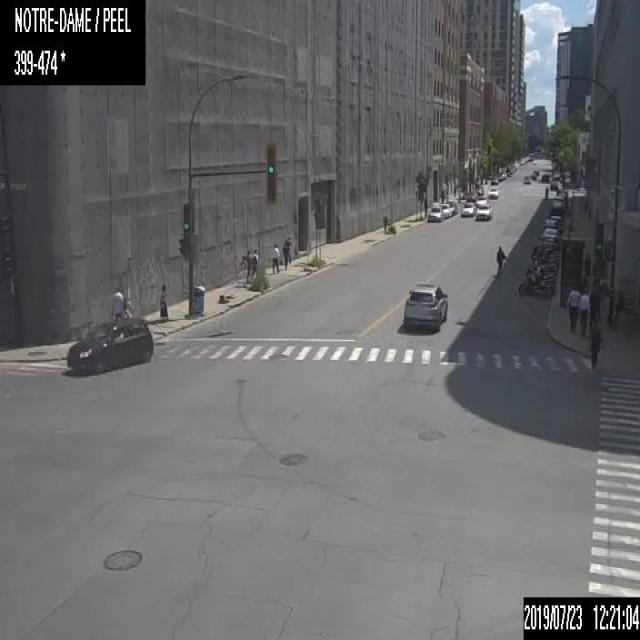pedestrian: (578, 288, 591, 336), (567, 284, 580, 332), (589, 284, 601, 332), (588, 324, 600, 370), (495, 243, 510, 277), (110, 287, 124, 317), (242, 246, 252, 282), (250, 247, 260, 281), (158, 280, 167, 317), (269, 243, 279, 273), (282, 235, 291, 268), (583, 251, 590, 284), (382, 212, 388, 235), (423, 195, 427, 216), (441, 187, 444, 202), (545, 187, 548, 201)
vehicle: (64, 315, 154, 373), (402, 281, 448, 332), (518, 274, 552, 296), (524, 259, 557, 277), (530, 245, 560, 261), (538, 227, 560, 248), (474, 202, 492, 221), (538, 223, 559, 238), (428, 204, 443, 220), (461, 200, 474, 216), (542, 218, 562, 227), (552, 194, 564, 208), (547, 209, 564, 218), (446, 200, 456, 212), (441, 203, 450, 216), (487, 187, 499, 196), (541, 173, 549, 181), (523, 174, 530, 183), (490, 176, 497, 184)
